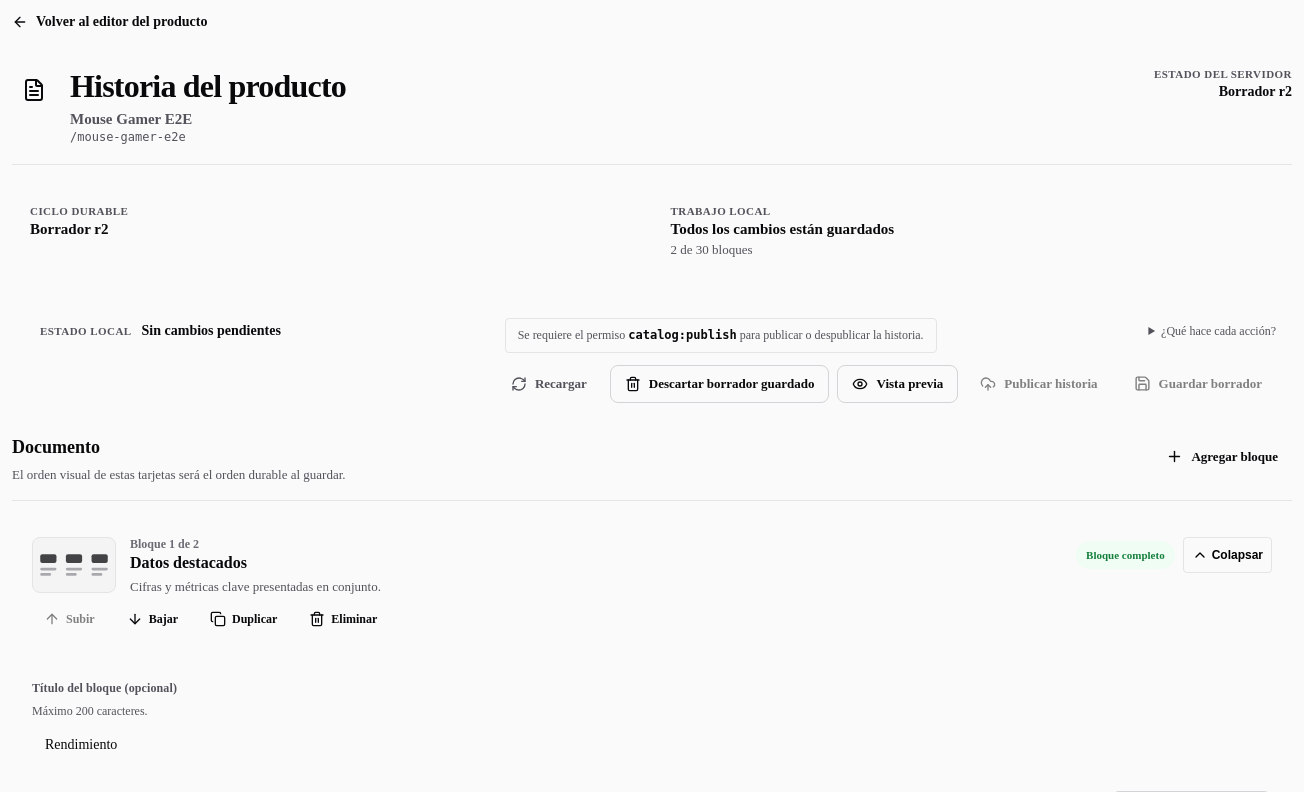
Test case: GP-026 CHK2 Story Builder component › reuses mutationRequestId for an exact unchanged retry after structured UNKNOWN_ERROR
Click the button "Duplicar" at (244, 619), box [198, 597, 289, 641]
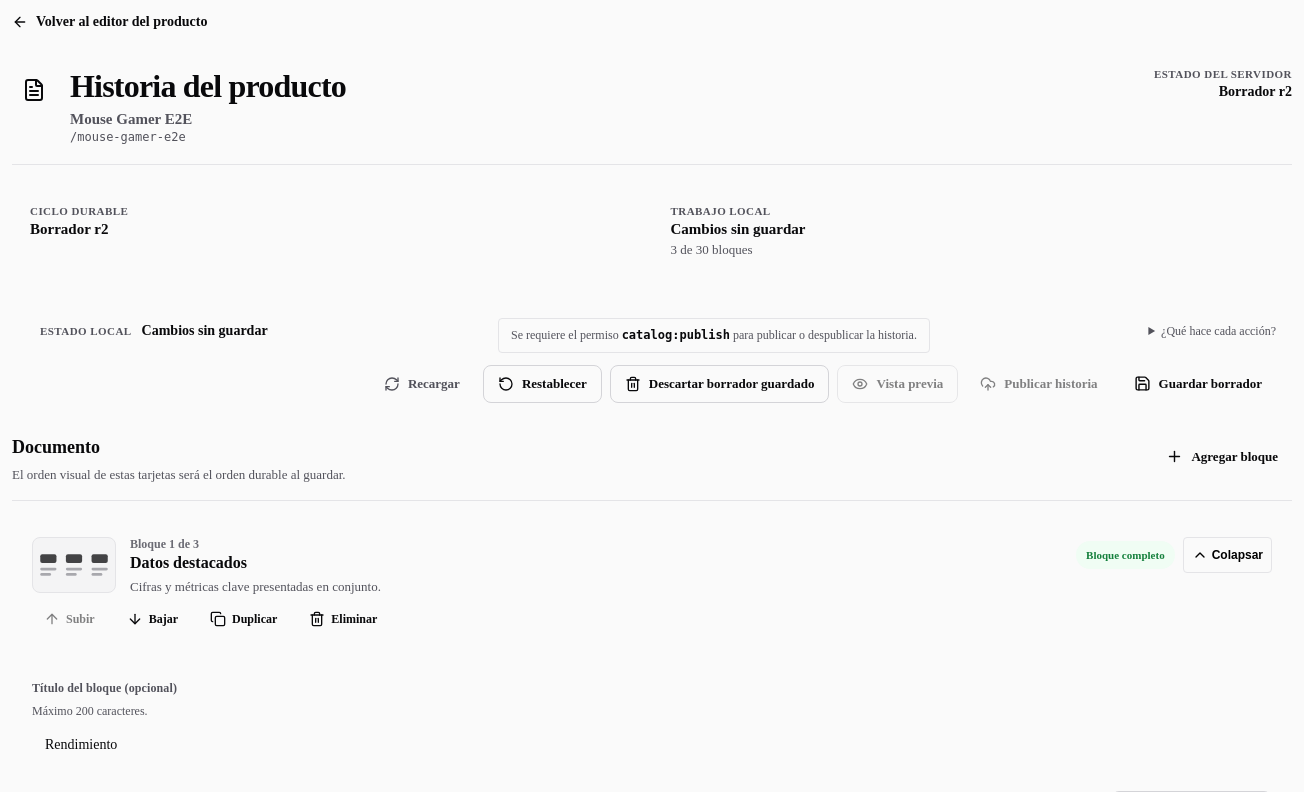
Click the button with test id "story-save-draft" at (1198, 384), box [1120, 365, 1276, 403]
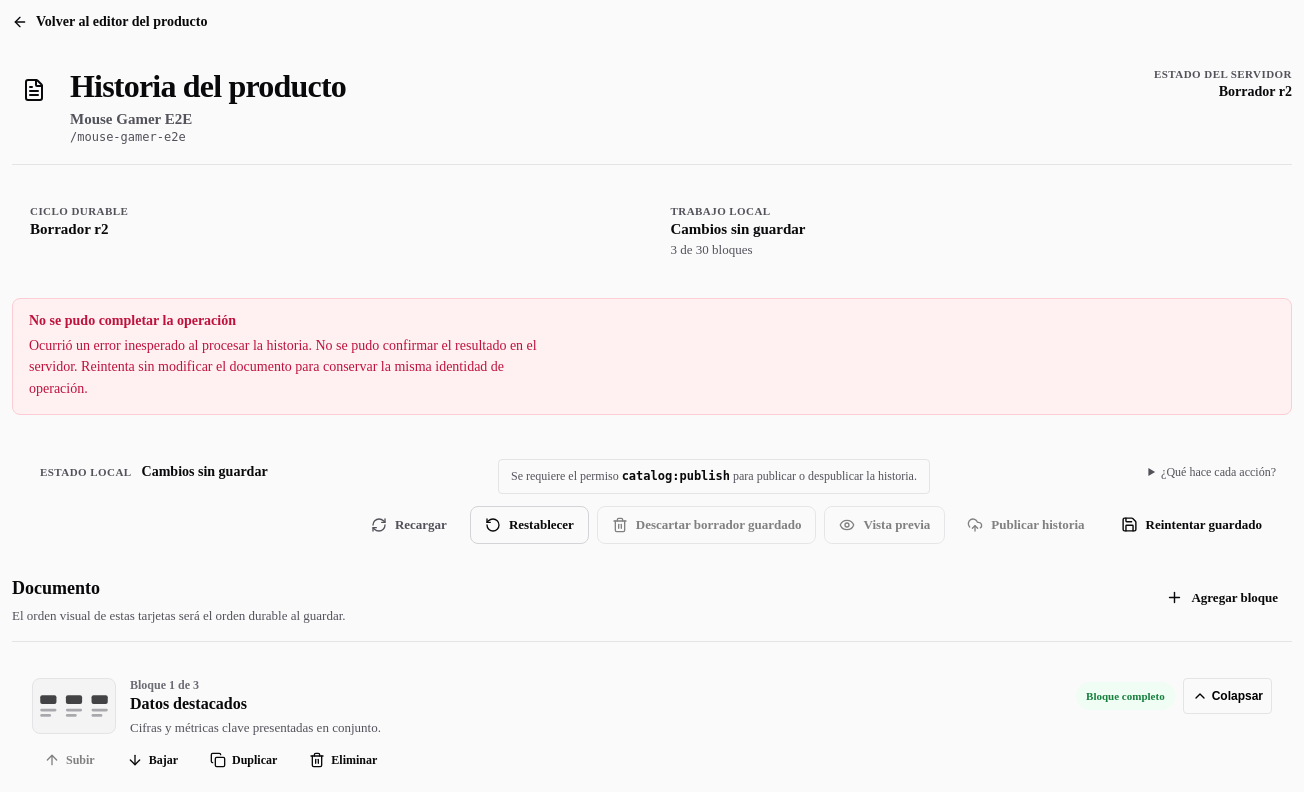
Expected: the text with test id "story-dirty-state" reads "Cambios sin guardar", [670, 221, 806, 237]
Expected: the button "Reintentar guardado" is shown
Expected: the message with test id "story-error" shows "No se pudo confirmar el resultado en el servidor", [29, 338, 537, 396]
Click the button "Reintentar guardado" at (1191, 525), box [1107, 506, 1276, 544]
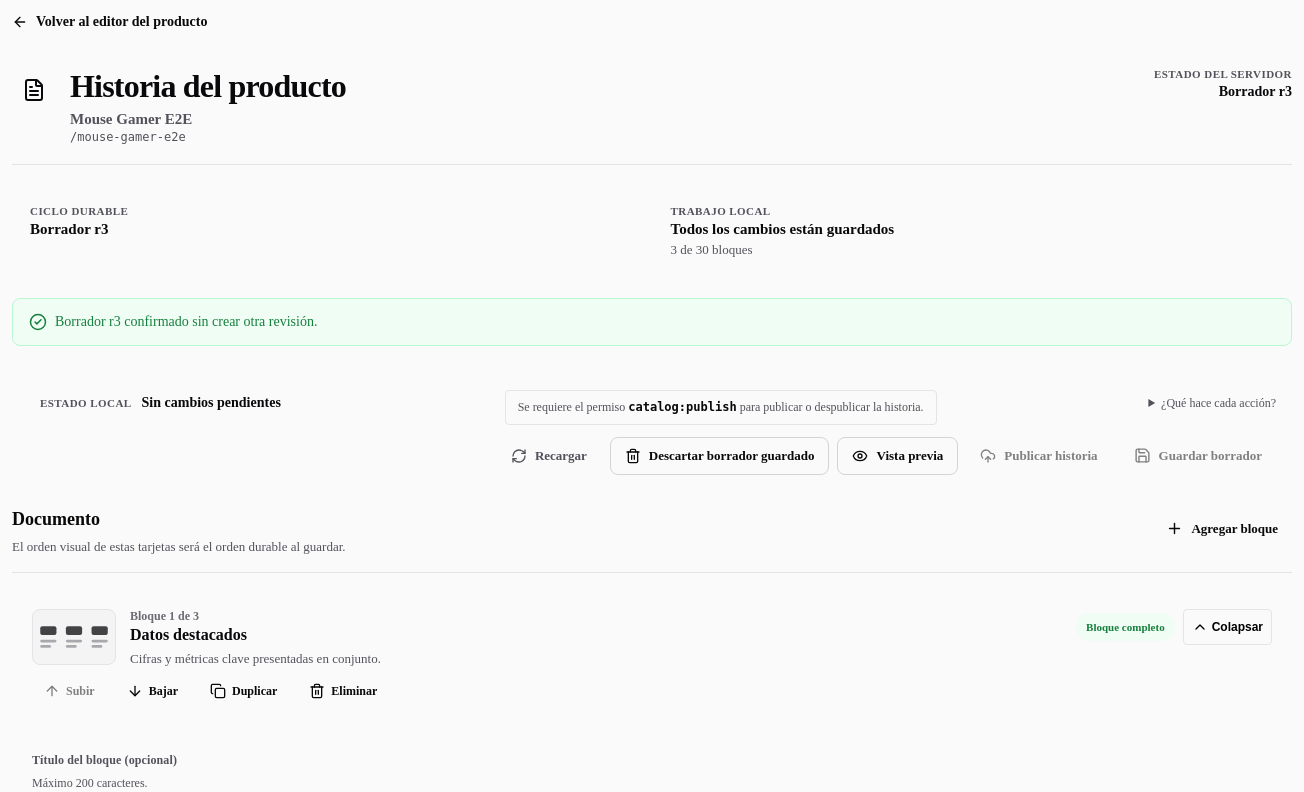
Expected: the text with test id "story-dirty-state" reads "Todos los cambios están guardados", [670, 221, 894, 237]
Expected: the message with test id "story-success" shows "confirmado sin crear otra revisión", [55, 314, 317, 329]
